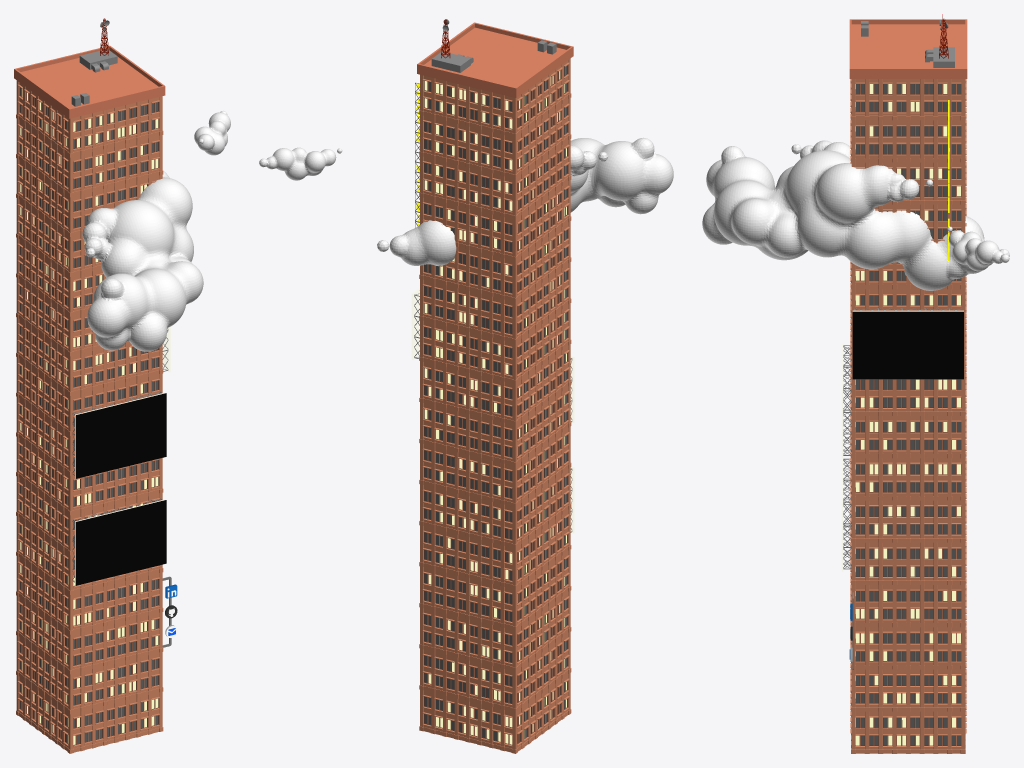
3 renders of one model, left to right at view 1: azimuth 30°, elevation 25°; view 2: azimuth 150°, elevation 25°; view 3: azimuth 270°, elevation 25°, orthographic. The views are drawn at different scales.
Visible parts, largest first — view 1: building, cloud, Works, cloud2, vents, grills; view 2: building, cloud, cloud2, Works, vents, grills; view 3: building, cloud, Works, cloud2, grills, vents.
Part boxes in pixels (x1,y1,x2,y2): building: (14,45,165,753); cloud: (82,170,203,351); Works: (75,326,170,585); cloud2: (194,110,230,155); vents: (71,49,117,106); grills: (72,328,171,647); building: (417,22,573,753); cloud: (377,137,673,266); cloud2: (259,147,342,180); Works: (411,288,574,533); vents: (431,40,556,72); grills: (414,82,572,532); building: (849,19,967,753); cloud: (702,140,1009,290); Works: (841,310,963,571); cloud2: (947,226,1009,271); grills: (843,308,961,669); vents: (861,21,954,67).
Size of what is drawn, in the model's own units: 1.45 by 3.57 by 1.36.
